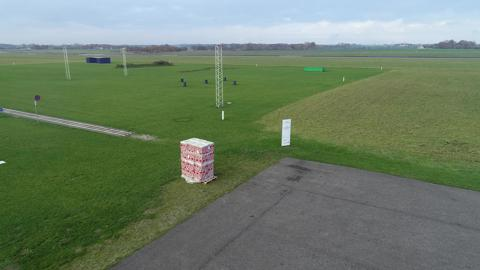RockwoolPallet: (179, 137, 215, 184)
